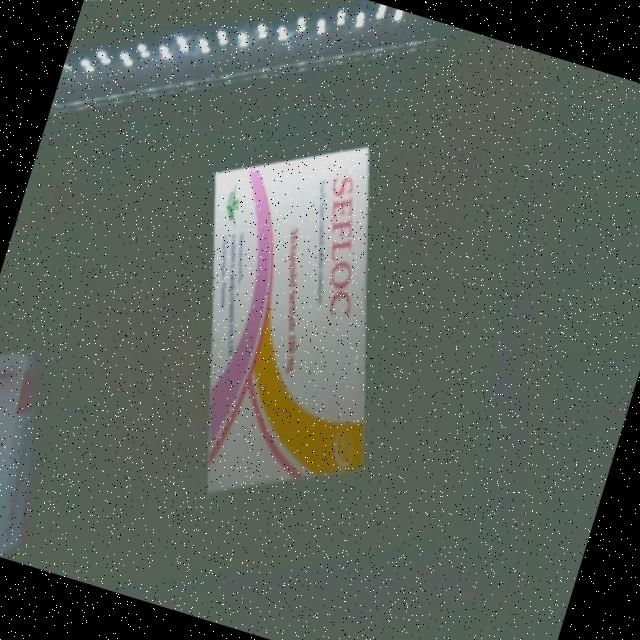medicine_name_detection: (131, 109, 454, 532), (0, 338, 77, 558)
